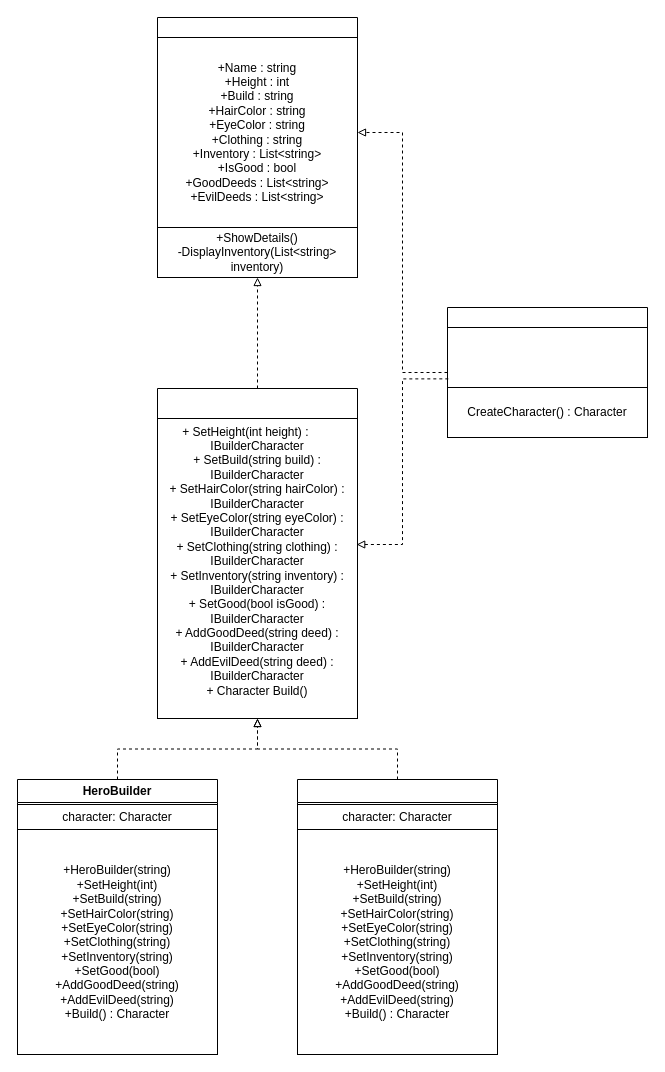
Image size: 665x1072. Some labels were removed from this diagram. Each missing label, with the box of its shape:
- _builder : IBuilderCharacter: (446, 326, 648, 388)
<<Interface>> IBuilderCharacter: (156, 388, 358, 718)
Character: (156, 16, 358, 278)
CharacterDirector: (446, 306, 648, 438)
EnemyBuilder: (296, 778, 498, 1054)
